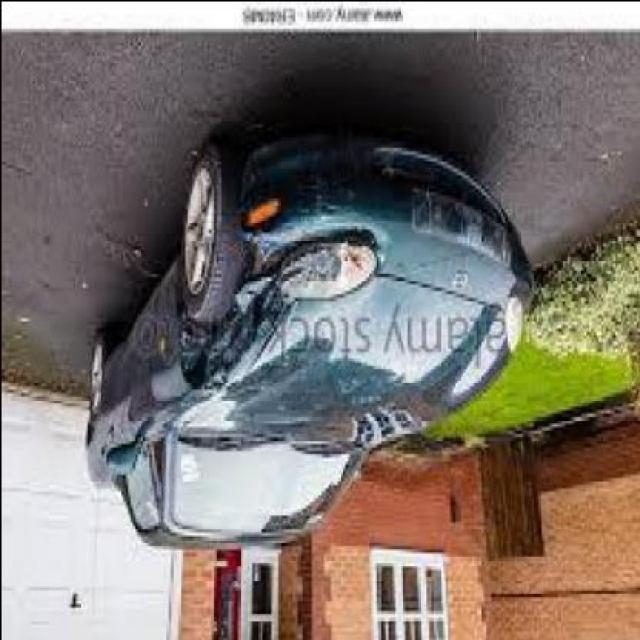damage: (172, 193, 334, 396)
